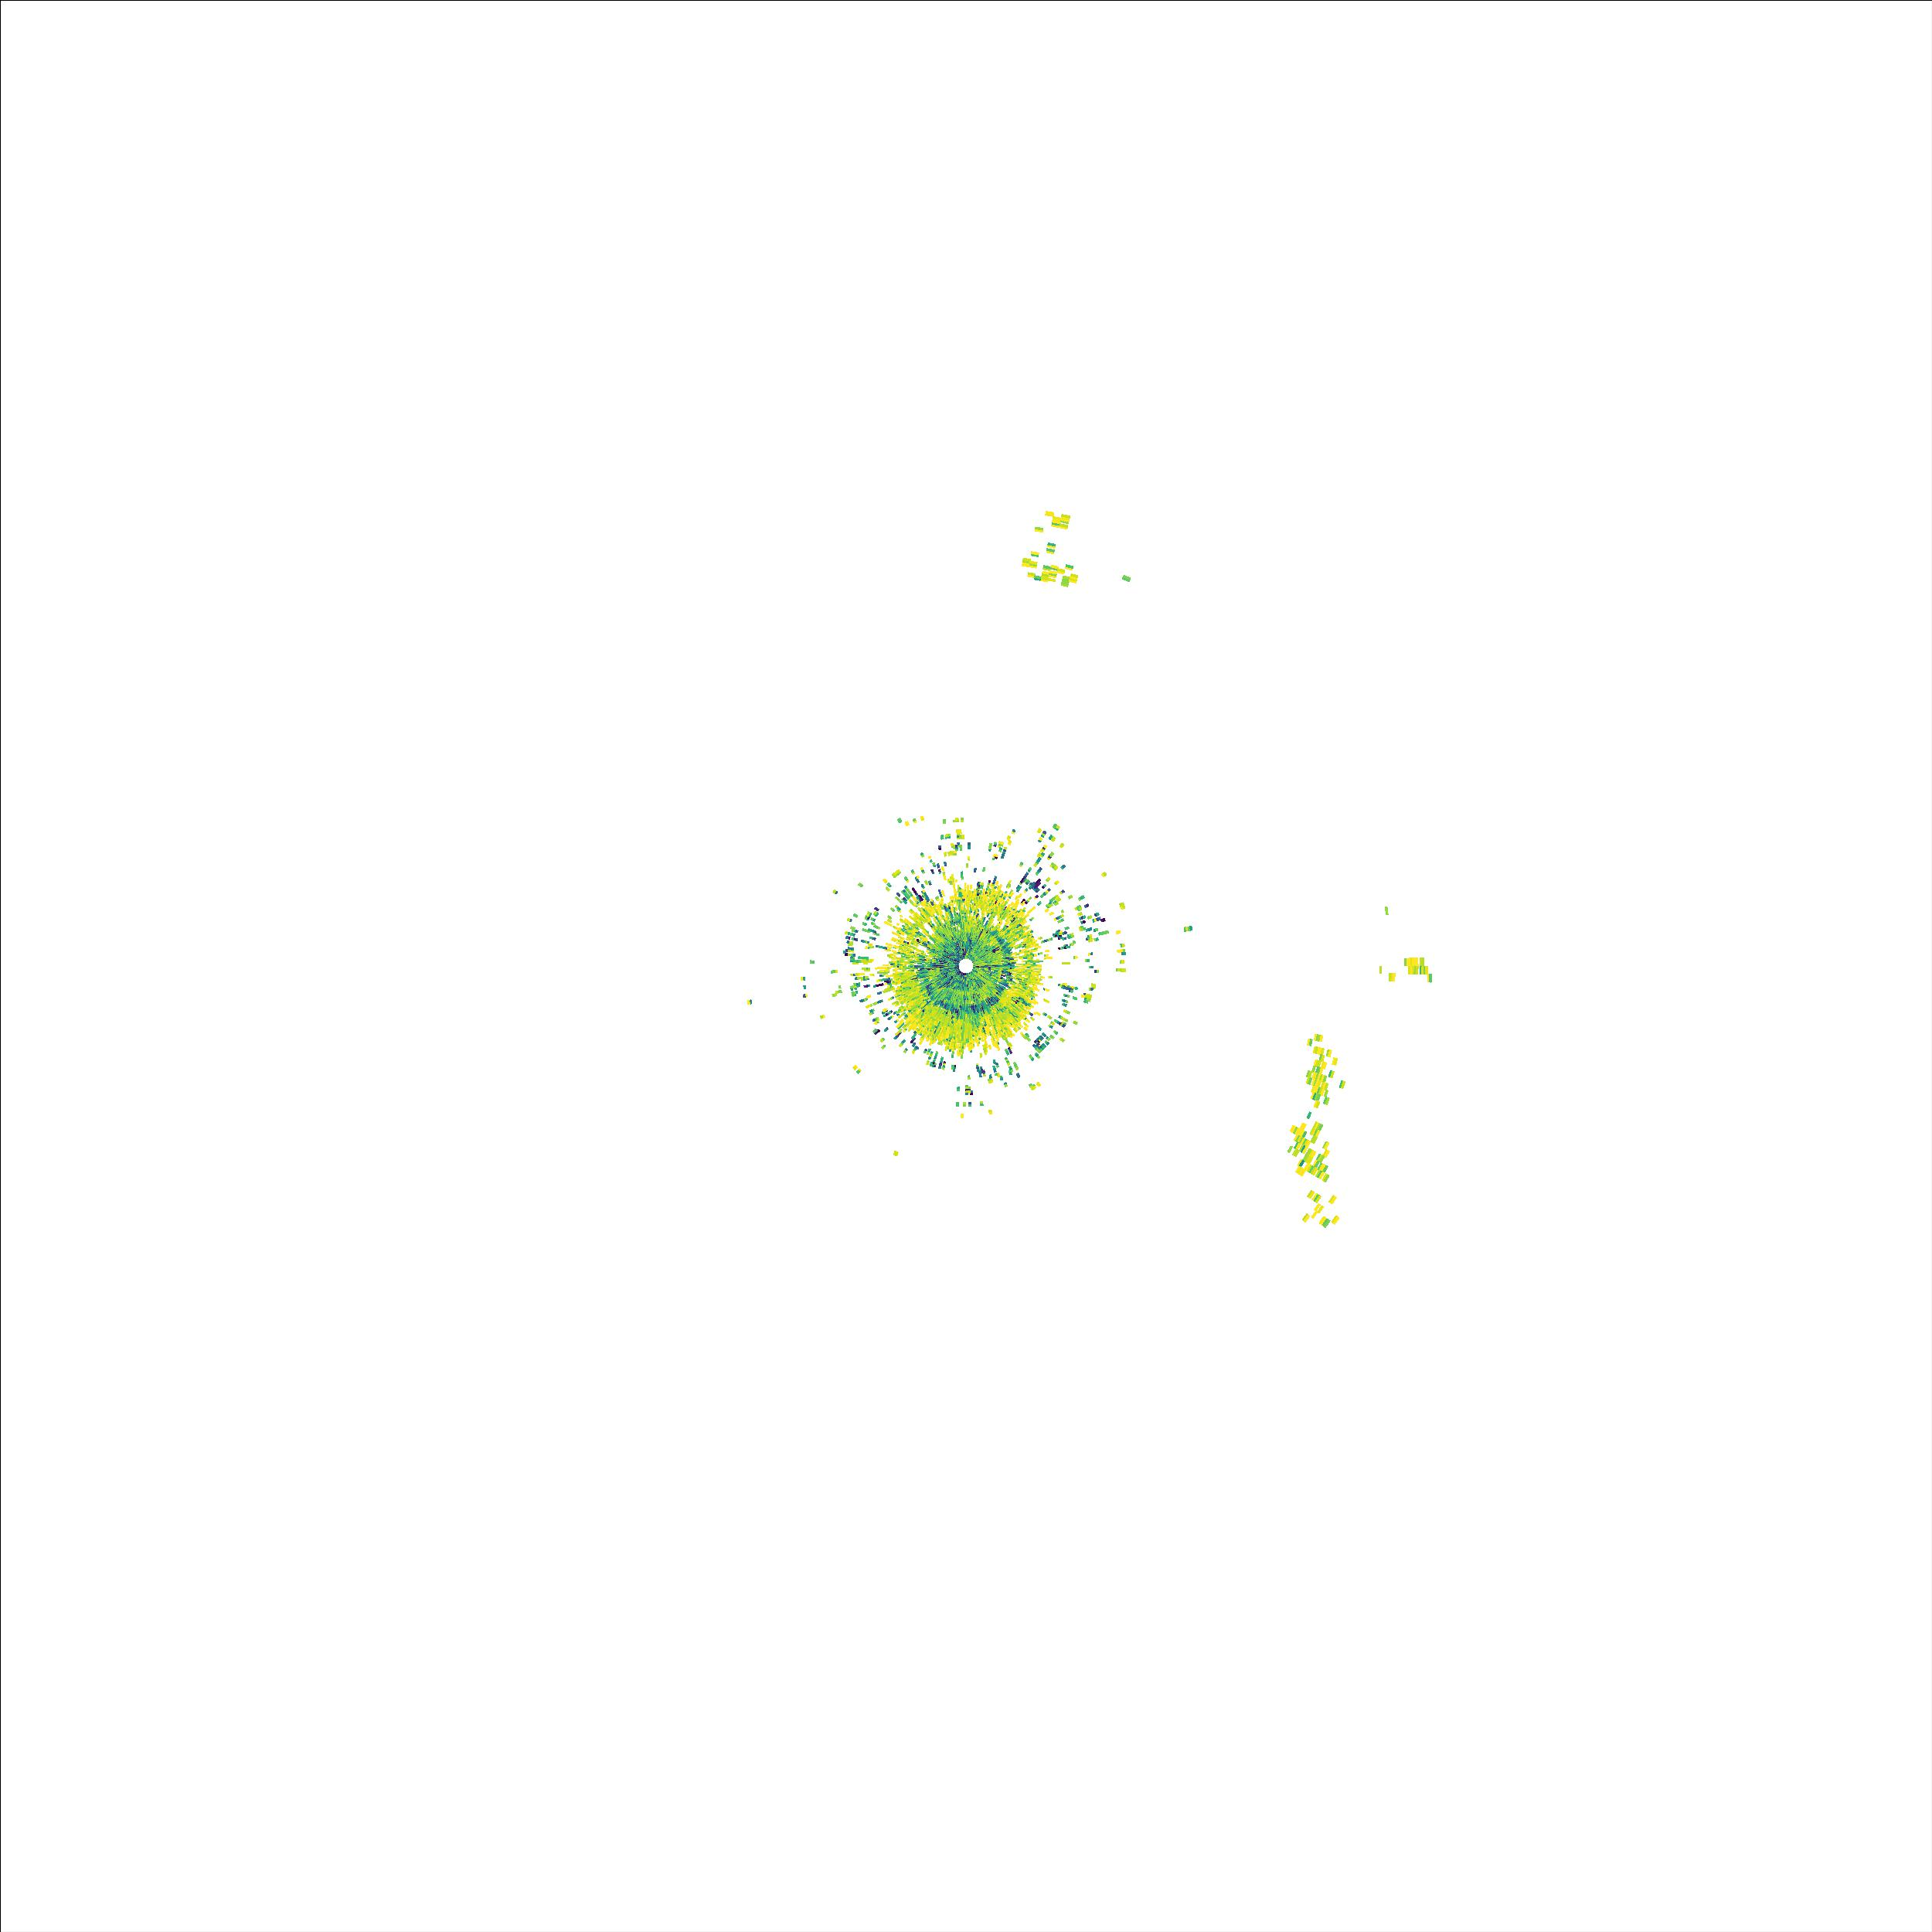fall: (1180, 924, 1194, 934)
